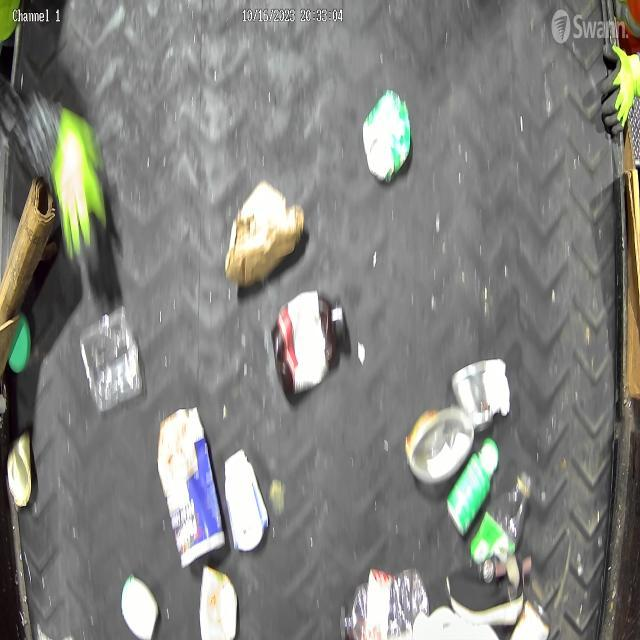can: (362, 91, 412, 184)
plastic_bottle: (472, 470, 534, 582), (340, 569, 430, 640)
